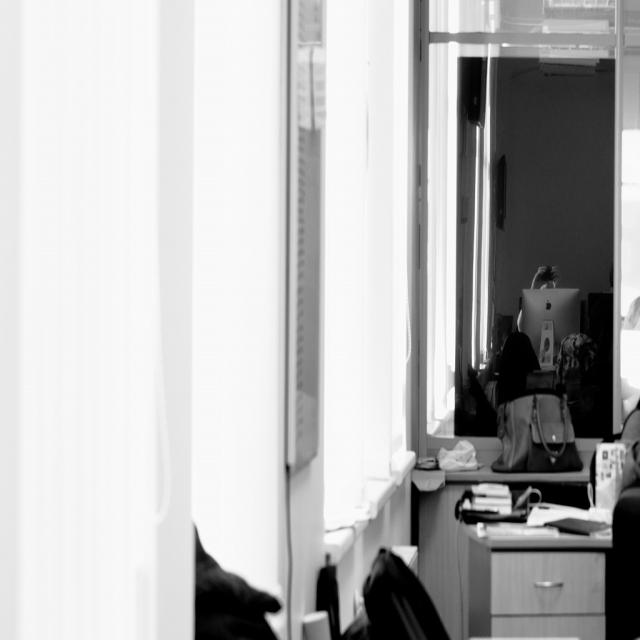desk: (438, 482, 633, 634)
